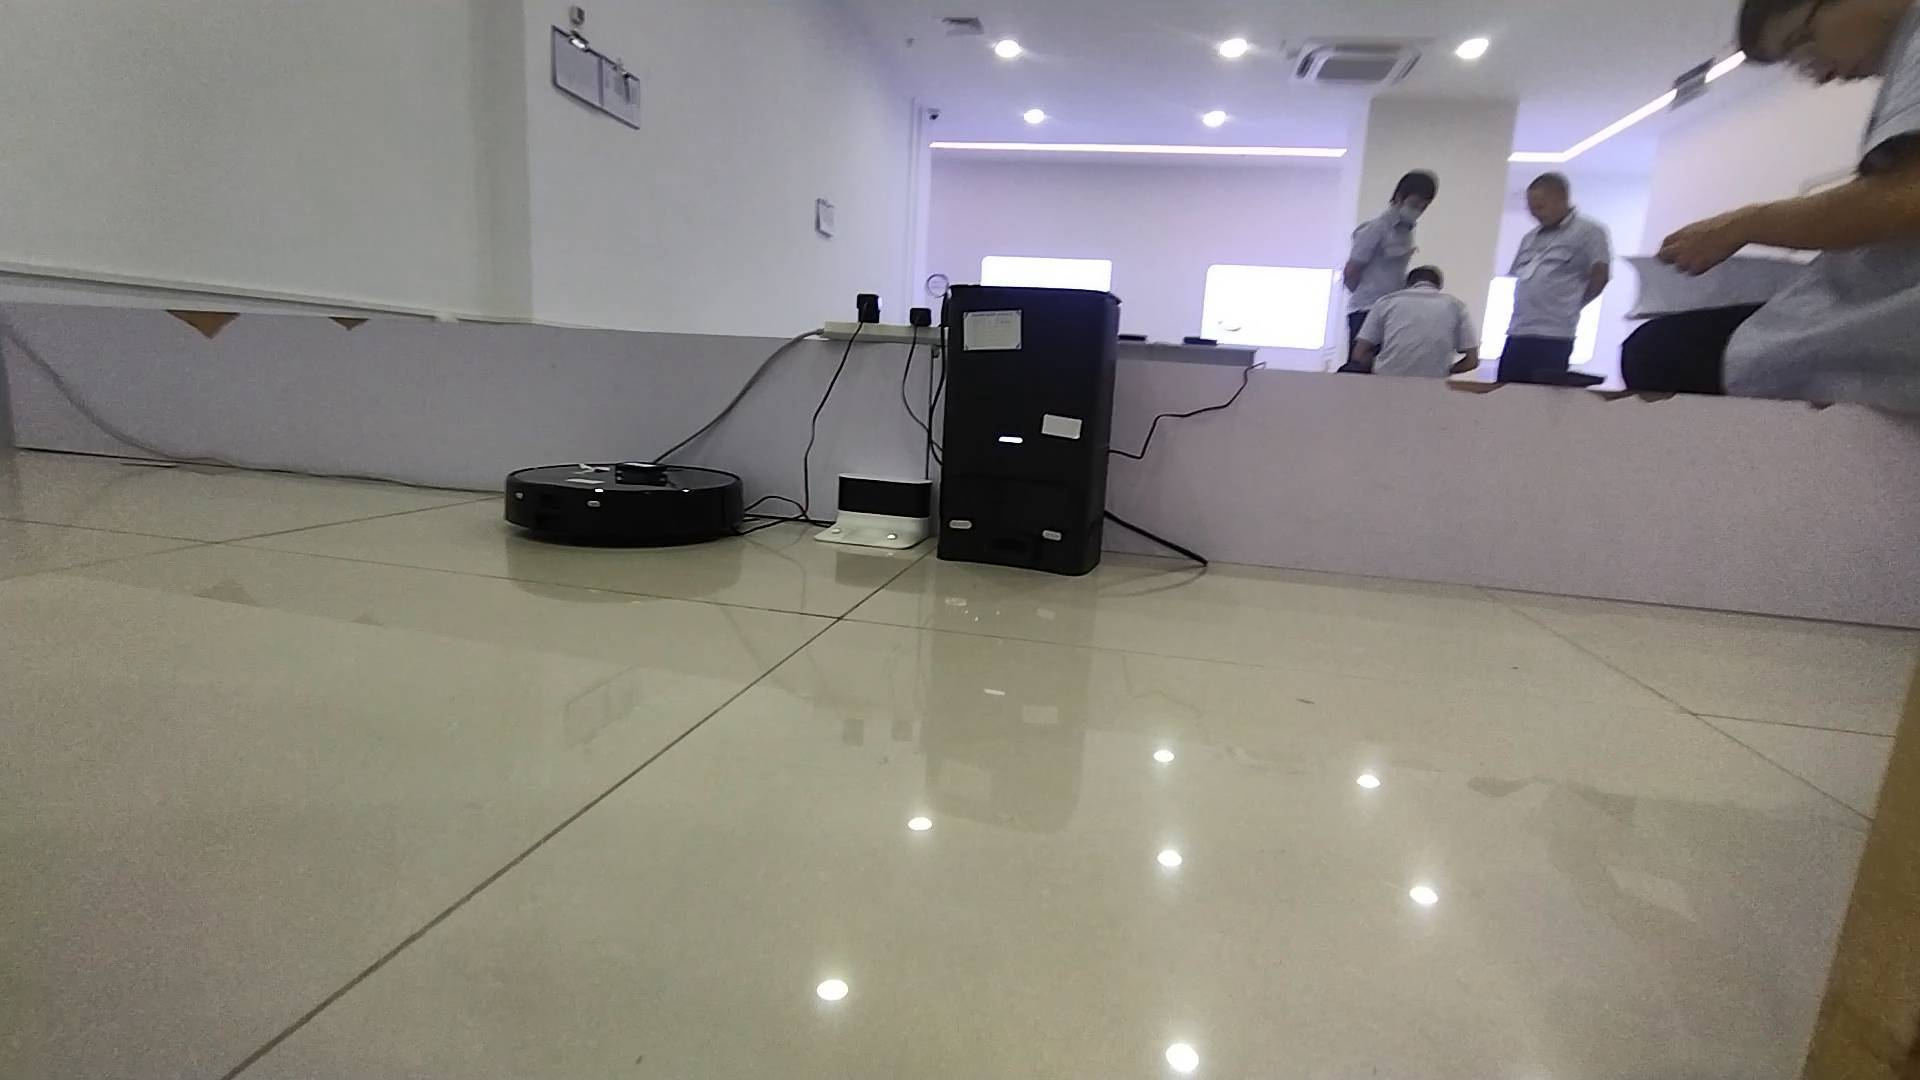dust collecting barrel: (939, 282, 1121, 576)
recharge seat: (818, 476, 934, 550)
